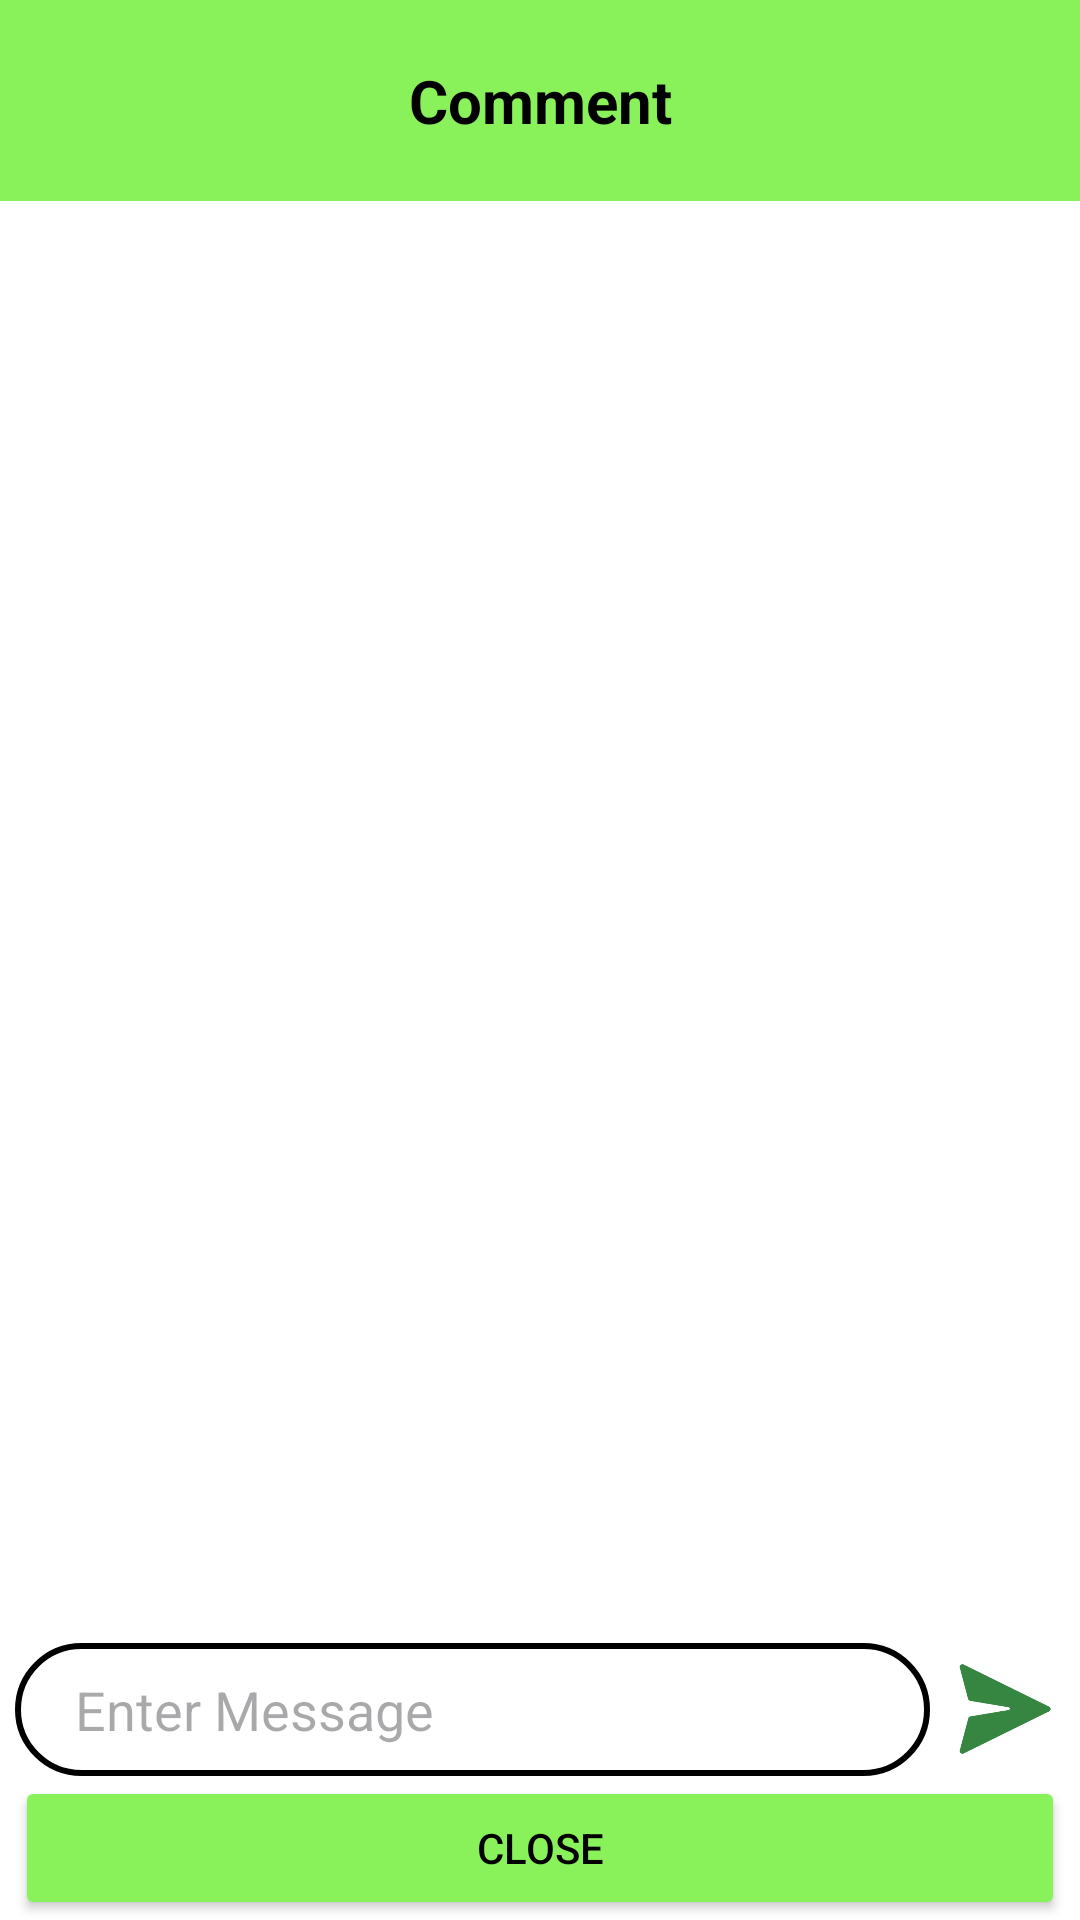

Where to tap for icons on this 1080w x 1920h app screen, as [x,y]:
sendbtn: [1005,1709]
